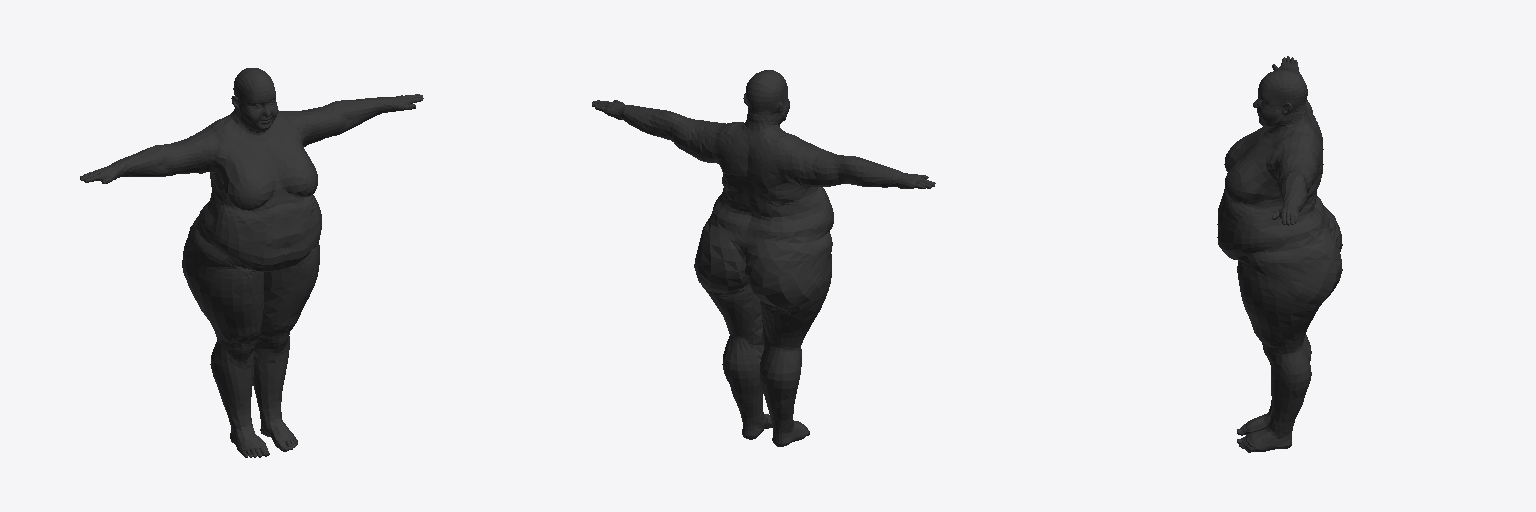
Rendered from Femail_05_OBJ.obj.
3 renders of one model, left to right at view 1: azimuth 30°, elevation 25°; view 2: azimuth 150°, elevation 25°; view 3: azimuth 270°, elevation 25°, orthographic.
Parts seen in each view (by area): view 1: Femail_06; view 2: Femail_06; view 3: Femail_06.
Part boxes in pixels (left/top/right/bottom): Femail_06: left=80, top=68, right=423, bottom=457; Femail_06: left=592, top=70, right=935, bottom=446; Femail_06: left=1217, top=56, right=1342, bottom=452.
Size of the model in its own units: 168 by 173 by 53.16.